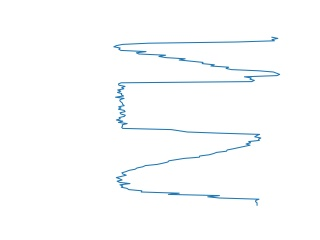distributaryChannelFill: (113, 71, 265, 144)
mouthBar: (112, 33, 283, 79)
underwaterDistributaryChannel: (113, 138, 263, 207)
